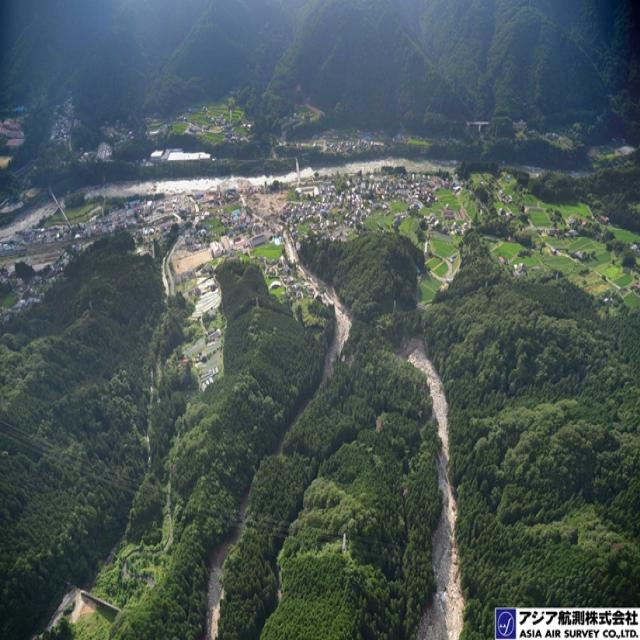Debris-flow: (399, 336, 464, 638), (205, 492, 248, 638), (50, 588, 116, 629), (322, 288, 351, 379)
